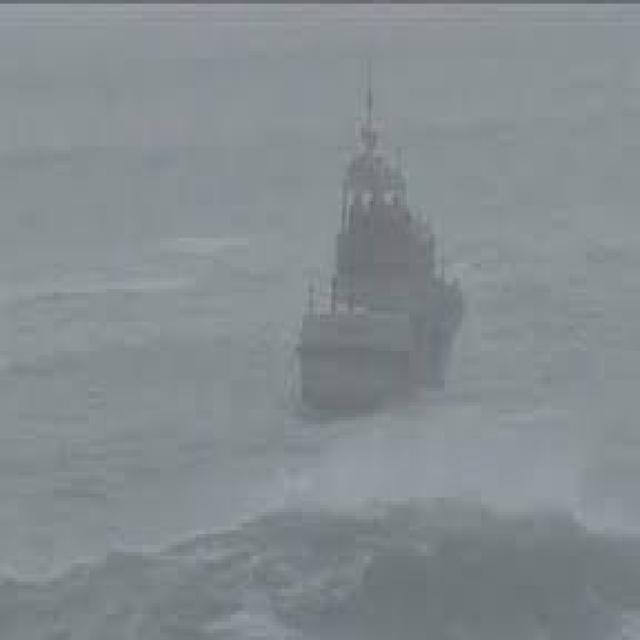fishing boat: (285, 82, 467, 406)
